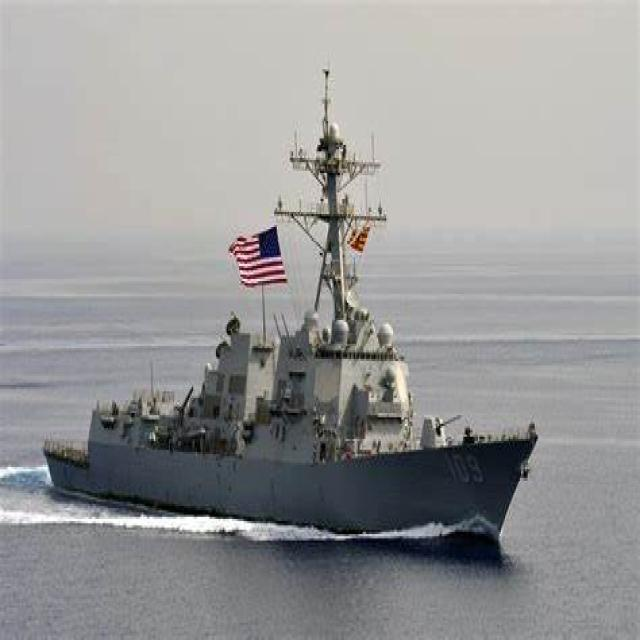navalvessels: (40, 106, 529, 528)
